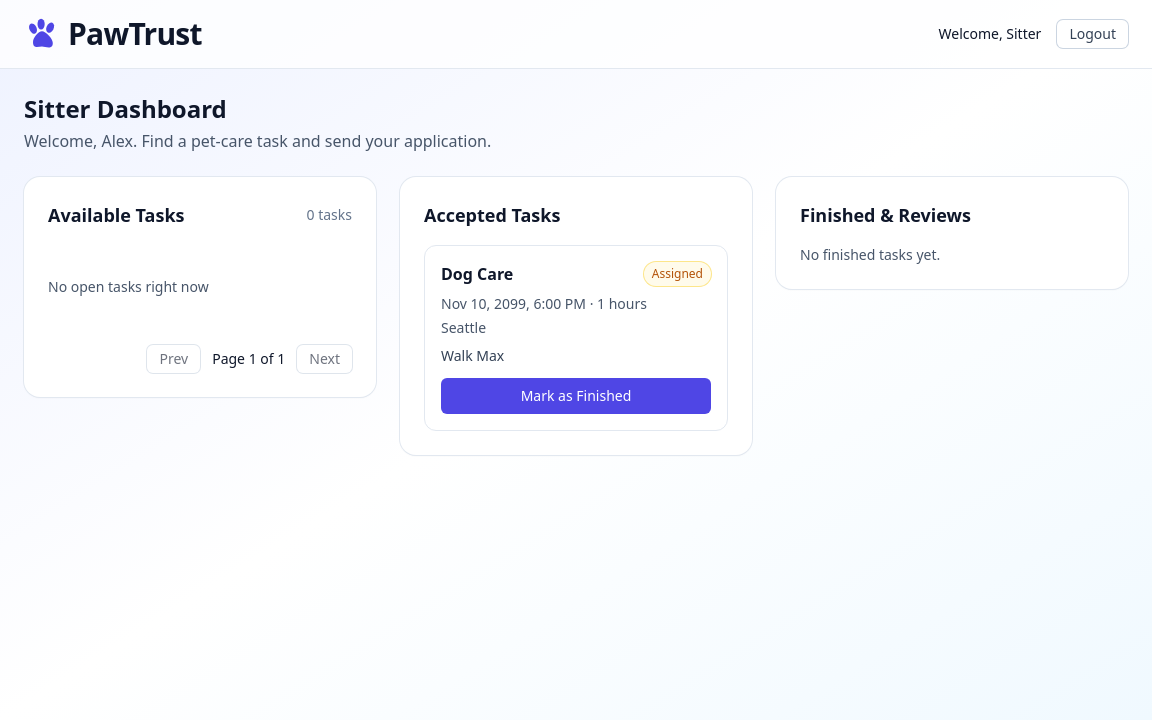
Test case: keeps the task and shows a server error when completion fails
Click the button "Mark as Finished".
click(576, 396)  # box [441,378,711,414]
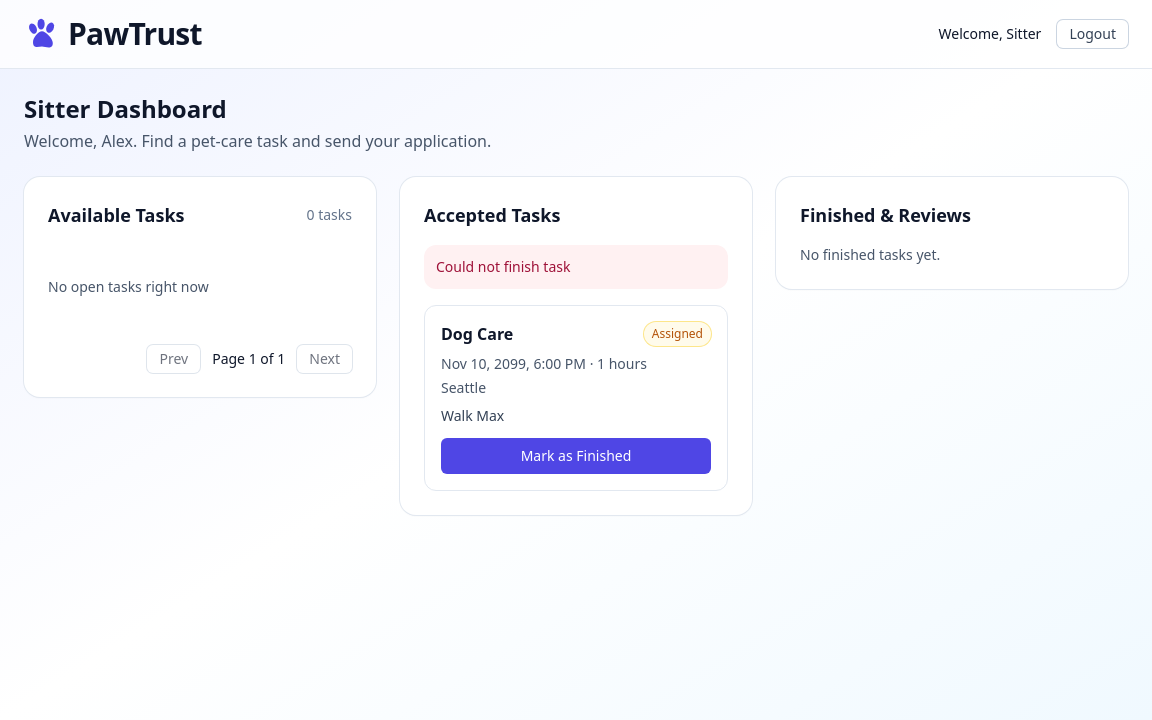
Expected: the button "Mark as Finished" is enabled, [441,438,711,474]
Expected: the message reads "Could not finish task", [436,257,570,276]
